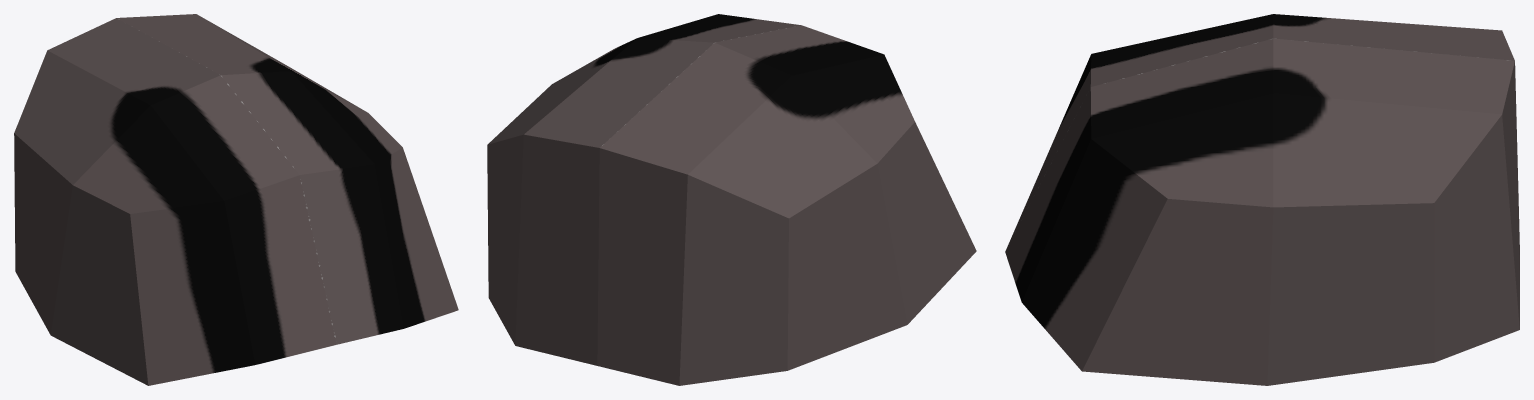
File: Bloodletter_TURRET_MOUNT.fbx
3 renders of one model, left to right at view 1: azimuth 30°, elevation 25°; view 2: azimuth 150°, elevation 25°; view 3: azimuth 270°, elevation 25°, orthographic. The views are drawn at different scales.
Parts seen in each view (by area): view 1: Mount; view 2: Mount; view 3: Mount.
Part boxes in pixels (x1,y1,x2,y2): Mount: [14, 14, 458, 385]; Mount: [487, 14, 976, 385]; Mount: [1005, 14, 1519, 385].
Size of the model in its own units: 50.88 by 30.46 by 56.83.
Materials: 1 (1 with a texture image).
